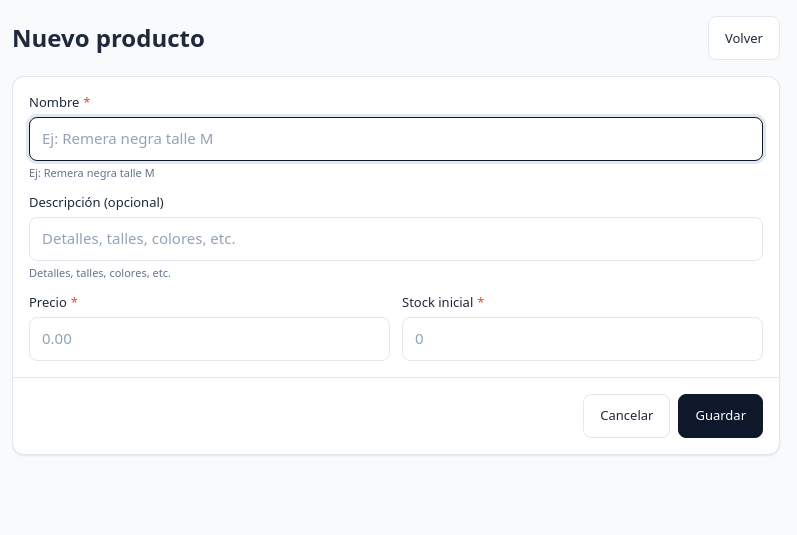
Scenario: InventoryForm › New Mode › shows validation error when name is empty
The image size is (797, 535).
Click the button "Guardar": (721, 416) 678,394 -> 763,438
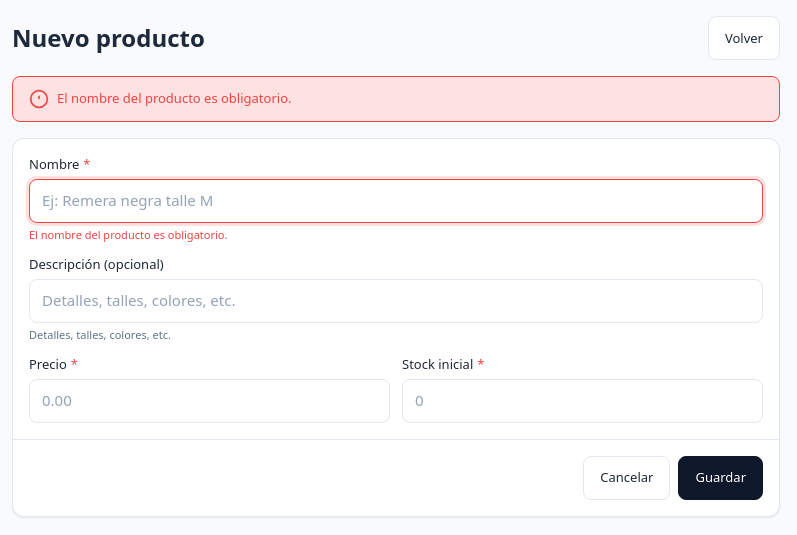
Result: the text "El nombre del producto es obligatorio." is shown at 57,89 -> 292,108
